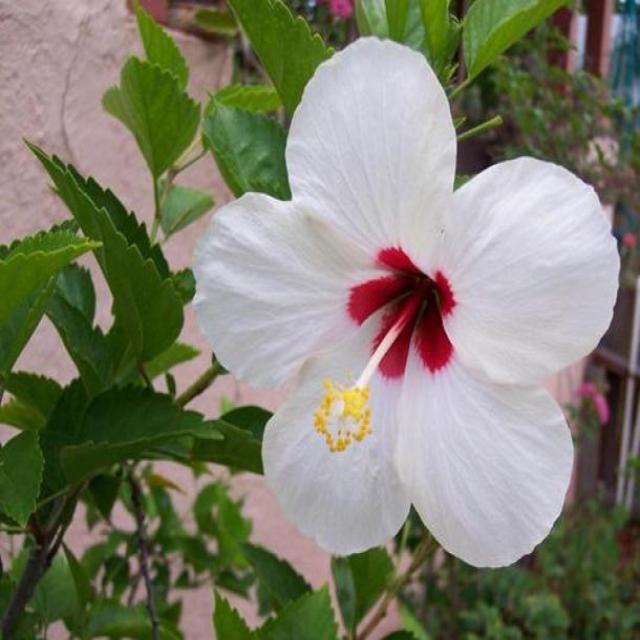hibiscus: (46, 12, 638, 632)
